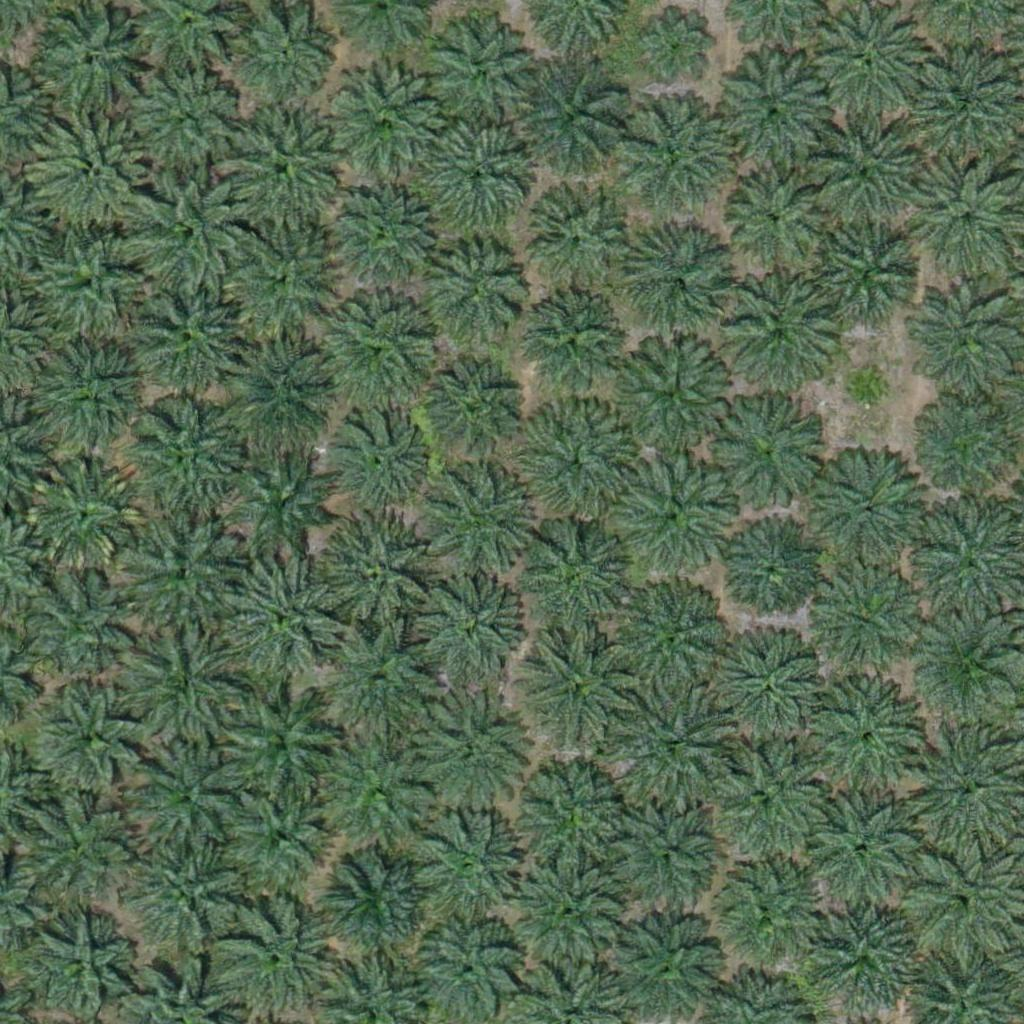Kelapa_Sawit: (43, 115, 168, 241), (327, 62, 452, 188), (612, 95, 737, 221), (713, 52, 838, 178), (803, 114, 928, 240), (609, 578, 734, 704), (516, 397, 641, 523), (515, 519, 640, 645), (515, 631, 640, 757), (322, 173, 447, 299), (310, 510, 435, 636), (318, 621, 443, 747), (214, 556, 339, 682), (218, 326, 343, 452), (214, 219, 339, 345), (221, 111, 346, 237), (126, 169, 251, 295), (122, 272, 247, 398), (122, 391, 247, 517), (120, 511, 245, 637), (110, 626, 235, 752), (126, 734, 251, 860), (124, 828, 249, 954), (216, 673, 341, 799), (220, 772, 345, 898), (216, 893, 341, 1019), (308, 728, 433, 854), (402, 810, 527, 936), (405, 687, 530, 813), (512, 850, 637, 976), (693, 740, 818, 866), (504, 61, 629, 186), (607, 450, 732, 575), (609, 333, 734, 458), (416, 113, 541, 238), (512, 756, 637, 881), (698, 851, 823, 976), (34, 227, 147, 341), (34, 335, 147, 449), (134, 64, 247, 177), (806, 566, 919, 679), (809, 448, 922, 561), (811, 226, 924, 339), (417, 241, 530, 354), (323, 848, 436, 961), (608, 800, 721, 913), (621, 685, 734, 798), (909, 61, 1021, 175), (911, 287, 1023, 401), (20, 795, 132, 909), (713, 389, 825, 502), (723, 635, 835, 748), (619, 228, 731, 341), (521, 183, 633, 296), (409, 571, 521, 684), (425, 465, 537, 578), (322, 300, 434, 413), (28, 457, 140, 570), (27, 573, 139, 686), (35, 682, 147, 795), (22, 908, 134, 1021), (811, 897, 923, 1010), (803, 794, 915, 907), (808, 684, 920, 797), (231, 4, 331, 105), (916, 394, 1016, 495), (723, 166, 823, 267), (730, 284, 830, 385), (723, 521, 823, 622), (521, 293, 621, 394), (425, 359, 525, 460), (330, 409, 430, 510), (232, 450, 332, 550), (431, 17, 530, 118), (641, 5, 716, 80), (842, 365, 892, 415)
